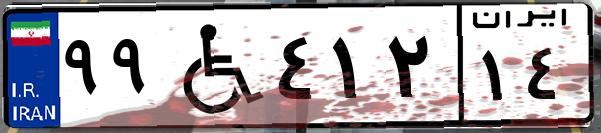1: (330, 28, 385, 110), (475, 38, 525, 113)
2: (385, 28, 445, 110)
4: (270, 28, 330, 110), (525, 38, 570, 115)
9: (57, 26, 110, 100), (110, 28, 158, 98)
ژ (معلولین و جانبازان): (158, 12, 270, 120)
